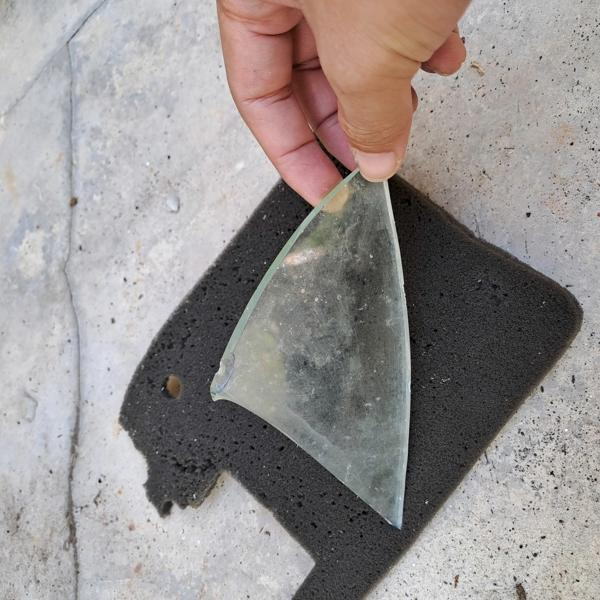Anorganik: (196, 167, 444, 546)
